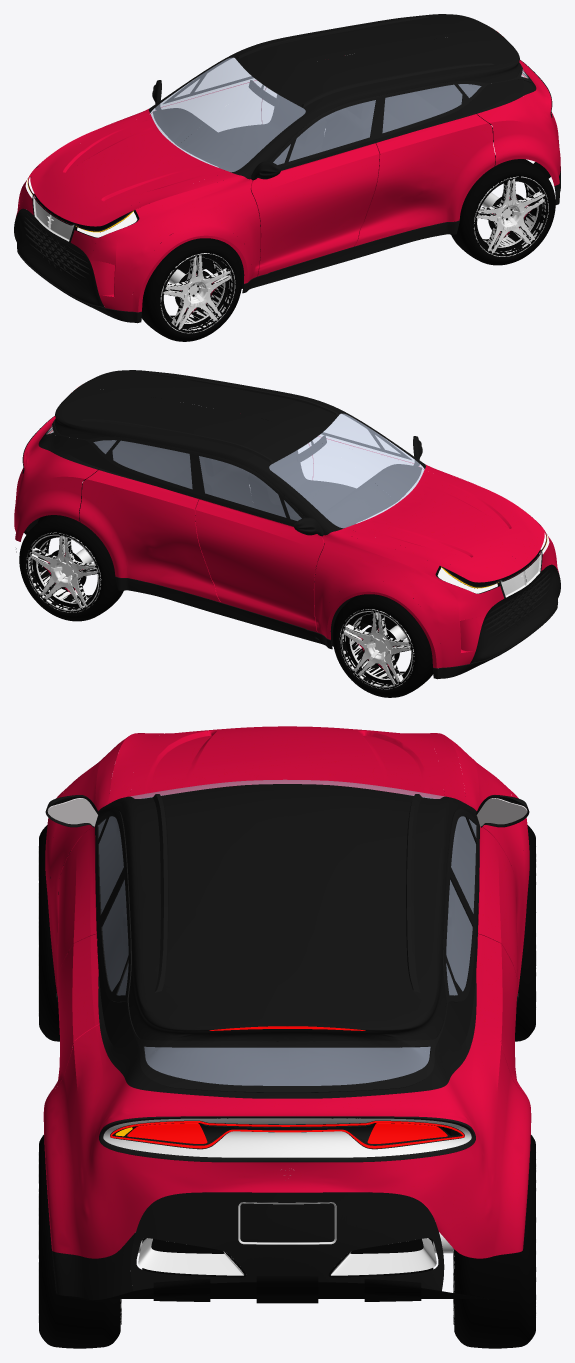
File: modelo-1.glb
The picture shows the model from 3 angles, top to bottom: view 1: azimuth 30°, elevation 25°; view 2: azimuth 150°, elevation 25°; view 3: azimuth 270°, elevation 25°; orthographic projection. The views are drawn at different scales.
Size of the model in its own units: 10.42 by 3.98 by 4.66.
Materials: 8 (8 with a texture image).
